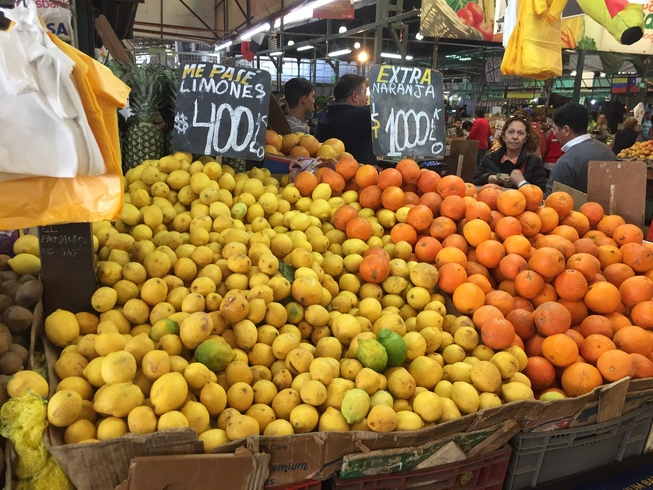precio: (174, 57, 272, 168), (365, 62, 452, 167)
